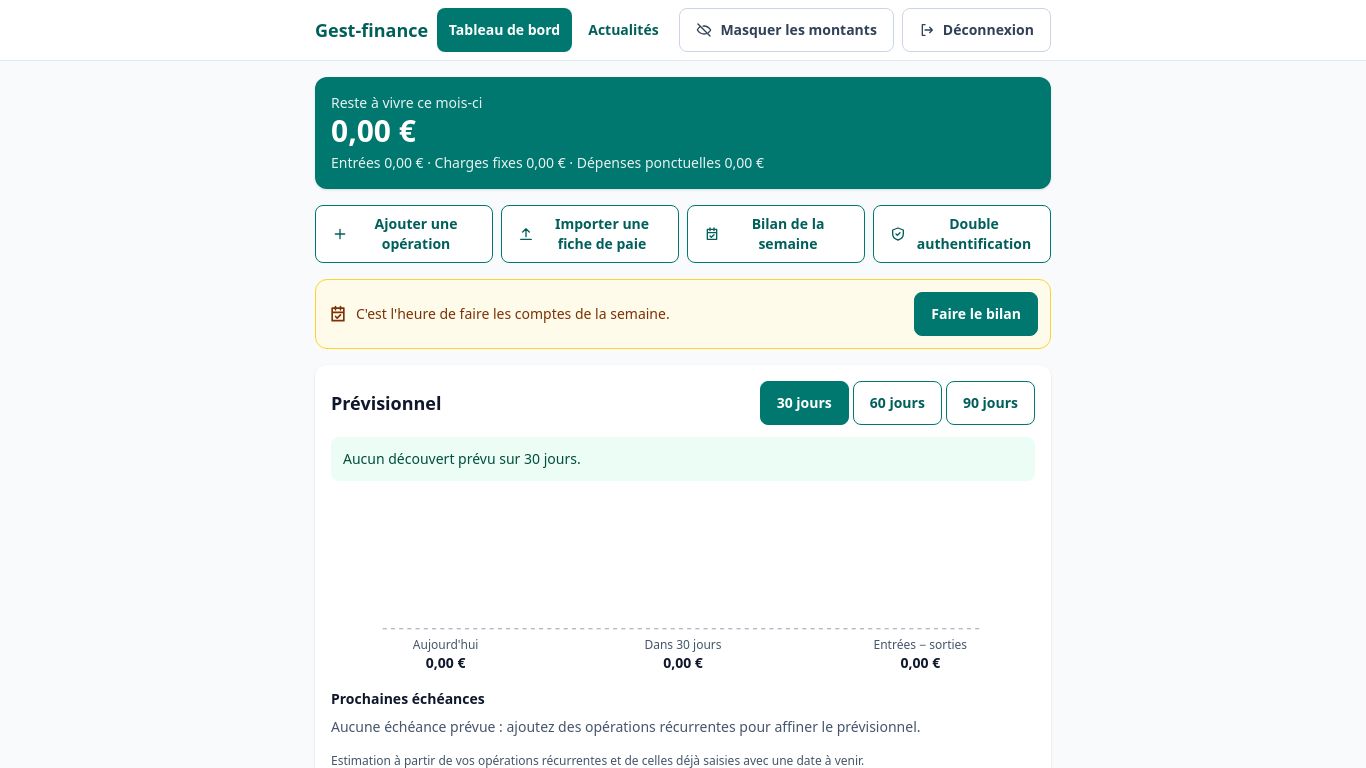
Scenario: rappel hebdomadaire › rappelle l'état des objectifs dans le bilan de la semaine
Click the button "Faire le bilan": coordinates (976, 314) [914,292,1038,336]
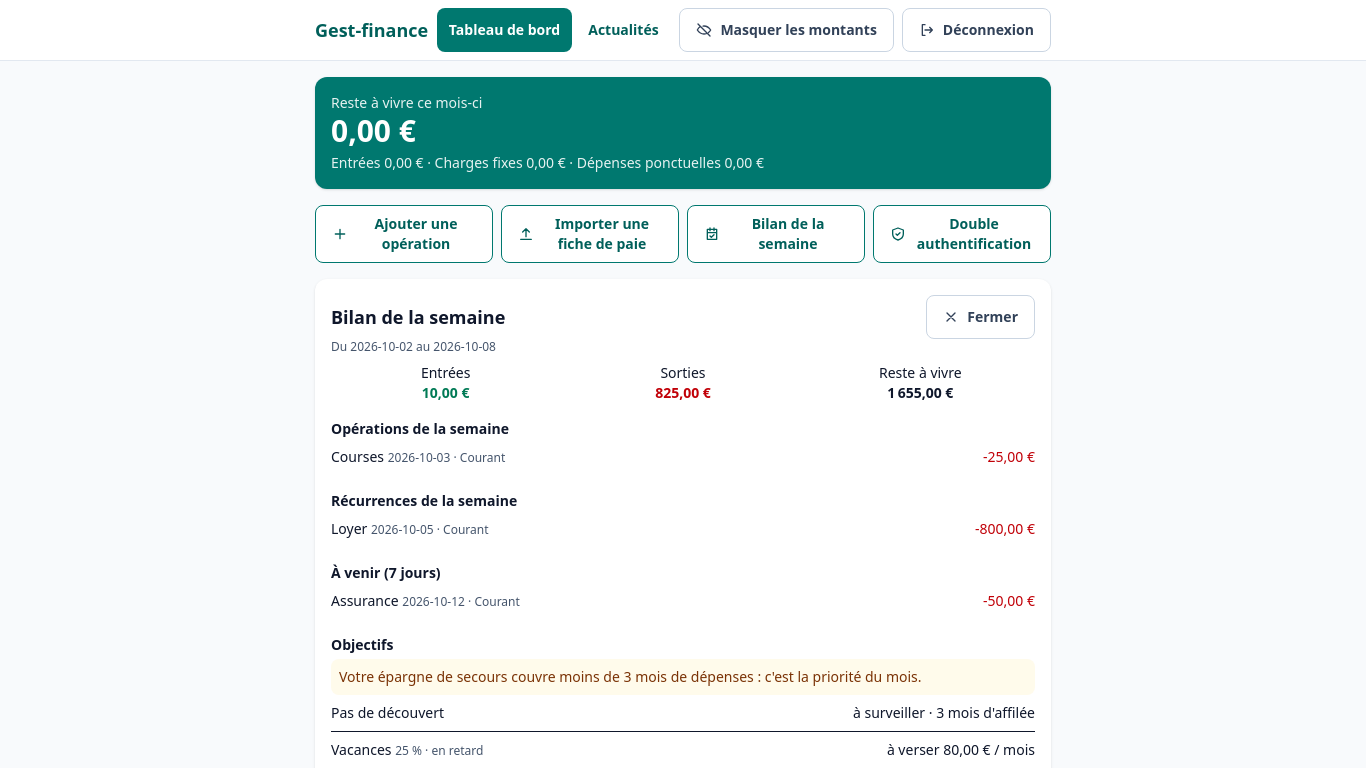
Result: the element labelled "Objectifs" shows "Pas de découvert" at [331,703,444,722]
Result: the element labelled "Objectifs" shows "à surveiller · 3 mois d'affilée" at [331,635,1035,767]
Result: the element labelled "Objectifs" shows "moins de 3 mois de dépenses" at [339,667,922,686]
